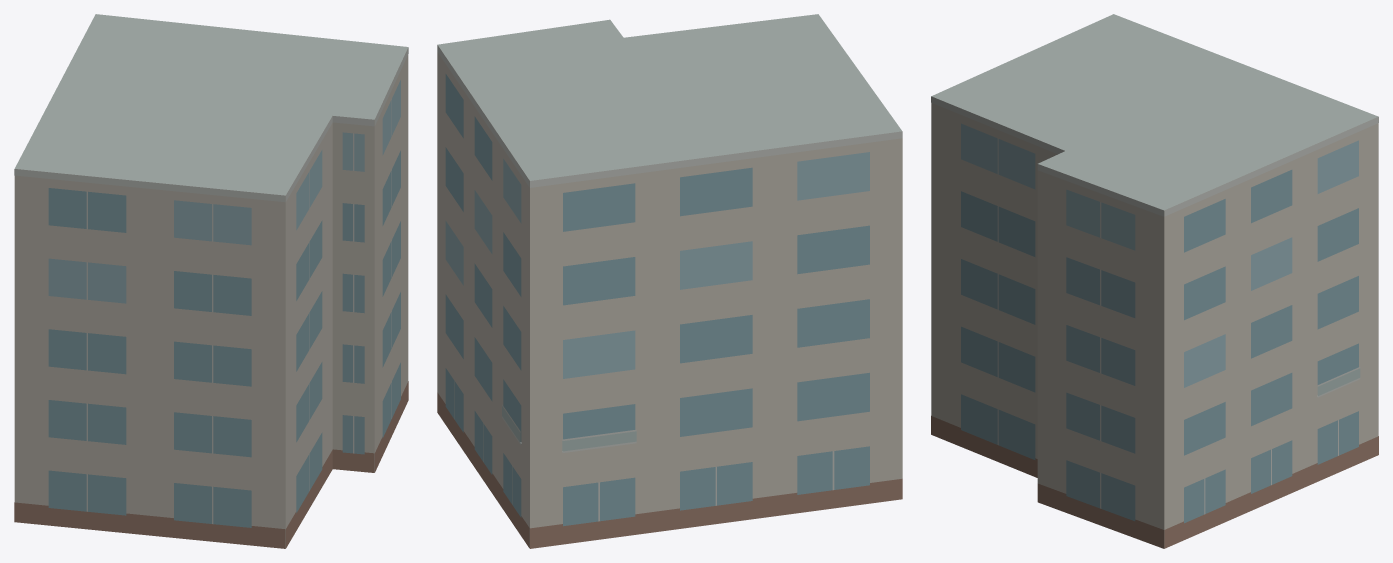
File: survey-upis-32780896.glb
The picture shows the model from 3 angles, left to right: view 1: azimuth 30°, elevation 25°; view 2: azimuth 150°, elevation 25°; view 3: azimuth 270°, elevation 25°; orthographic projection. The views are drawn at different scales.
Parts seen in each view (by area): view 1: survey-upis-32780896.tmp; view 2: survey-upis-32780896.tmp; view 3: survey-upis-32780896.tmp.
Boxes of the visible parts, x1,y1,x2,y2 form: survey-upis-32780896.tmp: [14, 14, 408, 548]; survey-upis-32780896.tmp: [437, 14, 902, 548]; survey-upis-32780896.tmp: [931, 14, 1378, 548].
Bounding box in the file's own units: 16.07 × 12.9 × 15.47.
